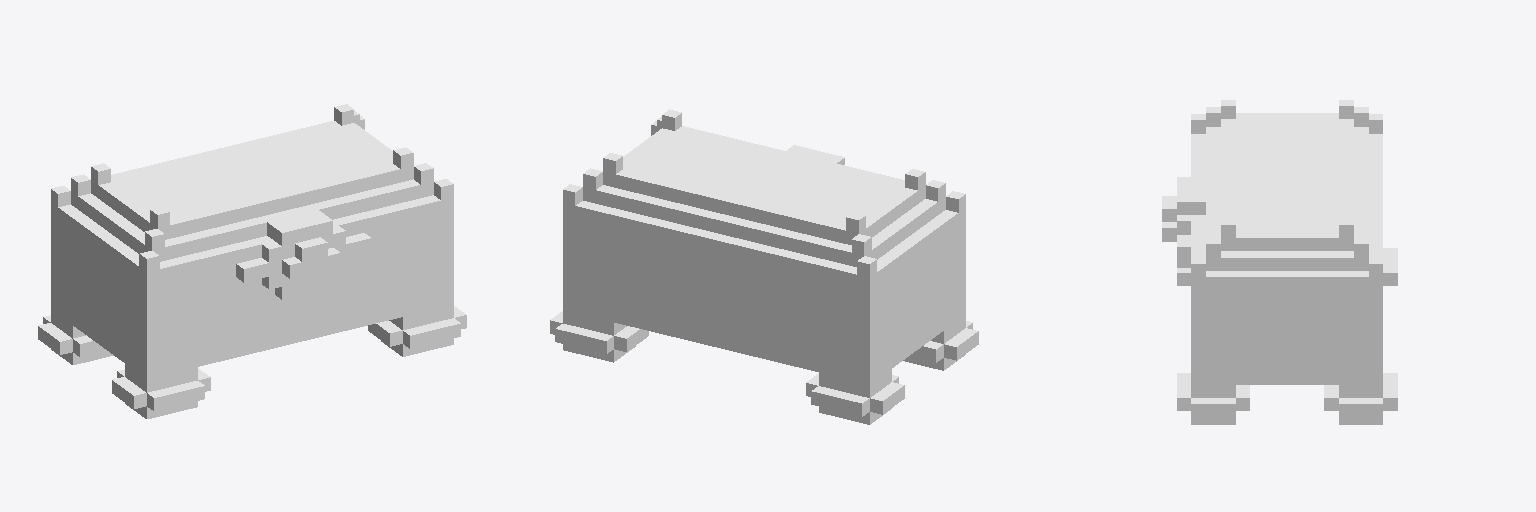
File: MaleChest.obj
The picture shows the model from 3 angles: view 1: azimuth 30°, elevation 25°; view 2: azimuth 150°, elevation 25°; view 3: azimuth 270°, elevation 25°; orthographic projection.
Visible parts, largest first — view 1: MaleChest; view 2: MaleChest; view 3: MaleChest.
Part boxes in pixels (x1,y1,x2,y2): MaleChest: (38, 104, 466, 418); MaleChest: (550, 109, 978, 424); MaleChest: (1162, 100, 1397, 424).
Bounding box in the file's own units: 26 × 14 × 16.